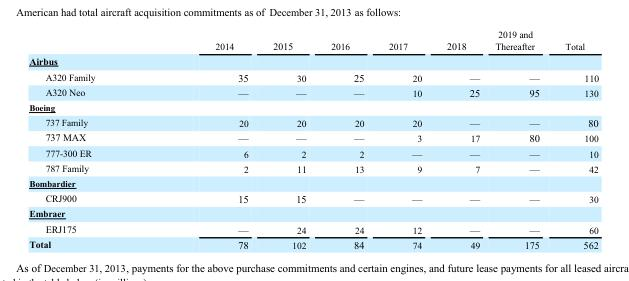table: (28, 28, 598, 249)
table column: (28, 28, 154, 249), (154, 28, 260, 249), (486, 28, 551, 249), (260, 28, 318, 249), (375, 28, 433, 249), (318, 28, 375, 249), (433, 28, 486, 249), (551, 28, 598, 249)
table column header: (28, 28, 598, 53)
table projected row header: (28, 53, 598, 68), (28, 100, 598, 114), (28, 176, 598, 190), (28, 206, 598, 220)
table row: (28, 28, 598, 53), (28, 68, 598, 84), (28, 84, 598, 100), (28, 114, 598, 130), (28, 160, 598, 176), (28, 190, 598, 206), (28, 220, 598, 236), (28, 53, 598, 68), (28, 130, 598, 145), (28, 145, 598, 160), (28, 100, 598, 114), (28, 176, 598, 190), (28, 206, 598, 220), (28, 236, 598, 249)
